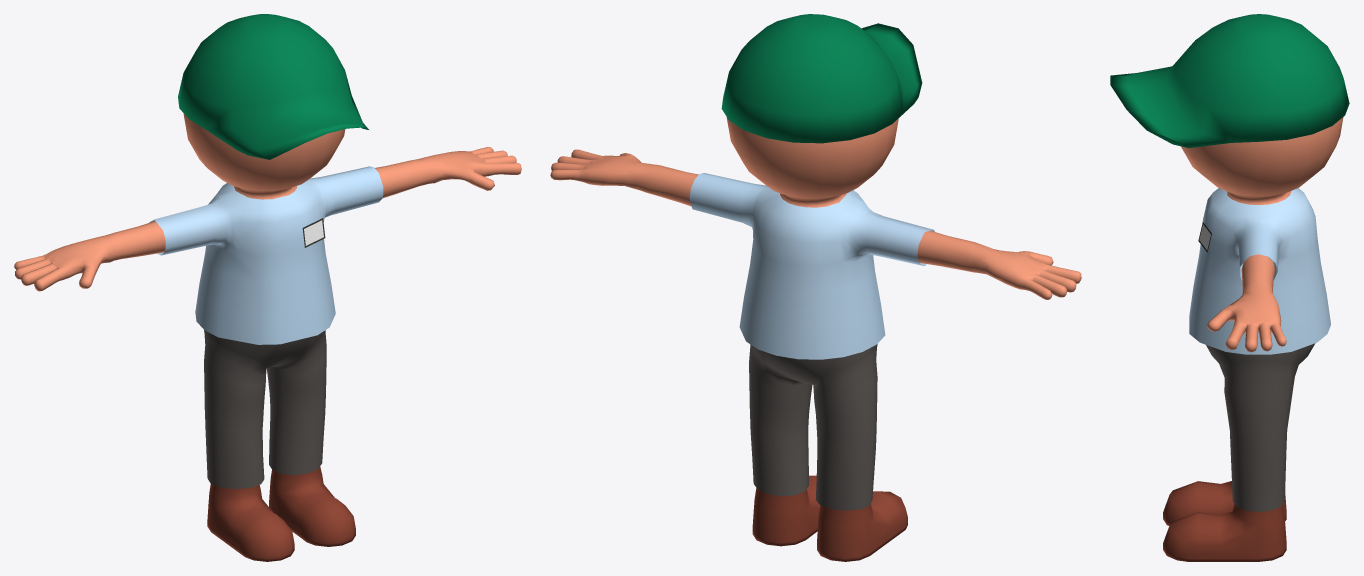
The model's file is Helper.fbx.
3 views of the same model, side by side, from view 1: azimuth 30°, elevation 25°; view 2: azimuth 150°, elevation 25°; view 3: azimuth 270°, elevation 25° (orthographic). The views are drawn at different scales.
Parts seen in each view (by area): view 1: Helper_Carrier; view 2: Helper_Carrier; view 3: Helper_Carrier.
Part boxes in pixels (x1,y1,x2,y2): Helper_Carrier: [14, 14, 521, 561]; Helper_Carrier: [550, 14, 1081, 561]; Helper_Carrier: [1110, 14, 1349, 561].
Size of the model in its own units: 386 by 370 by 157.
